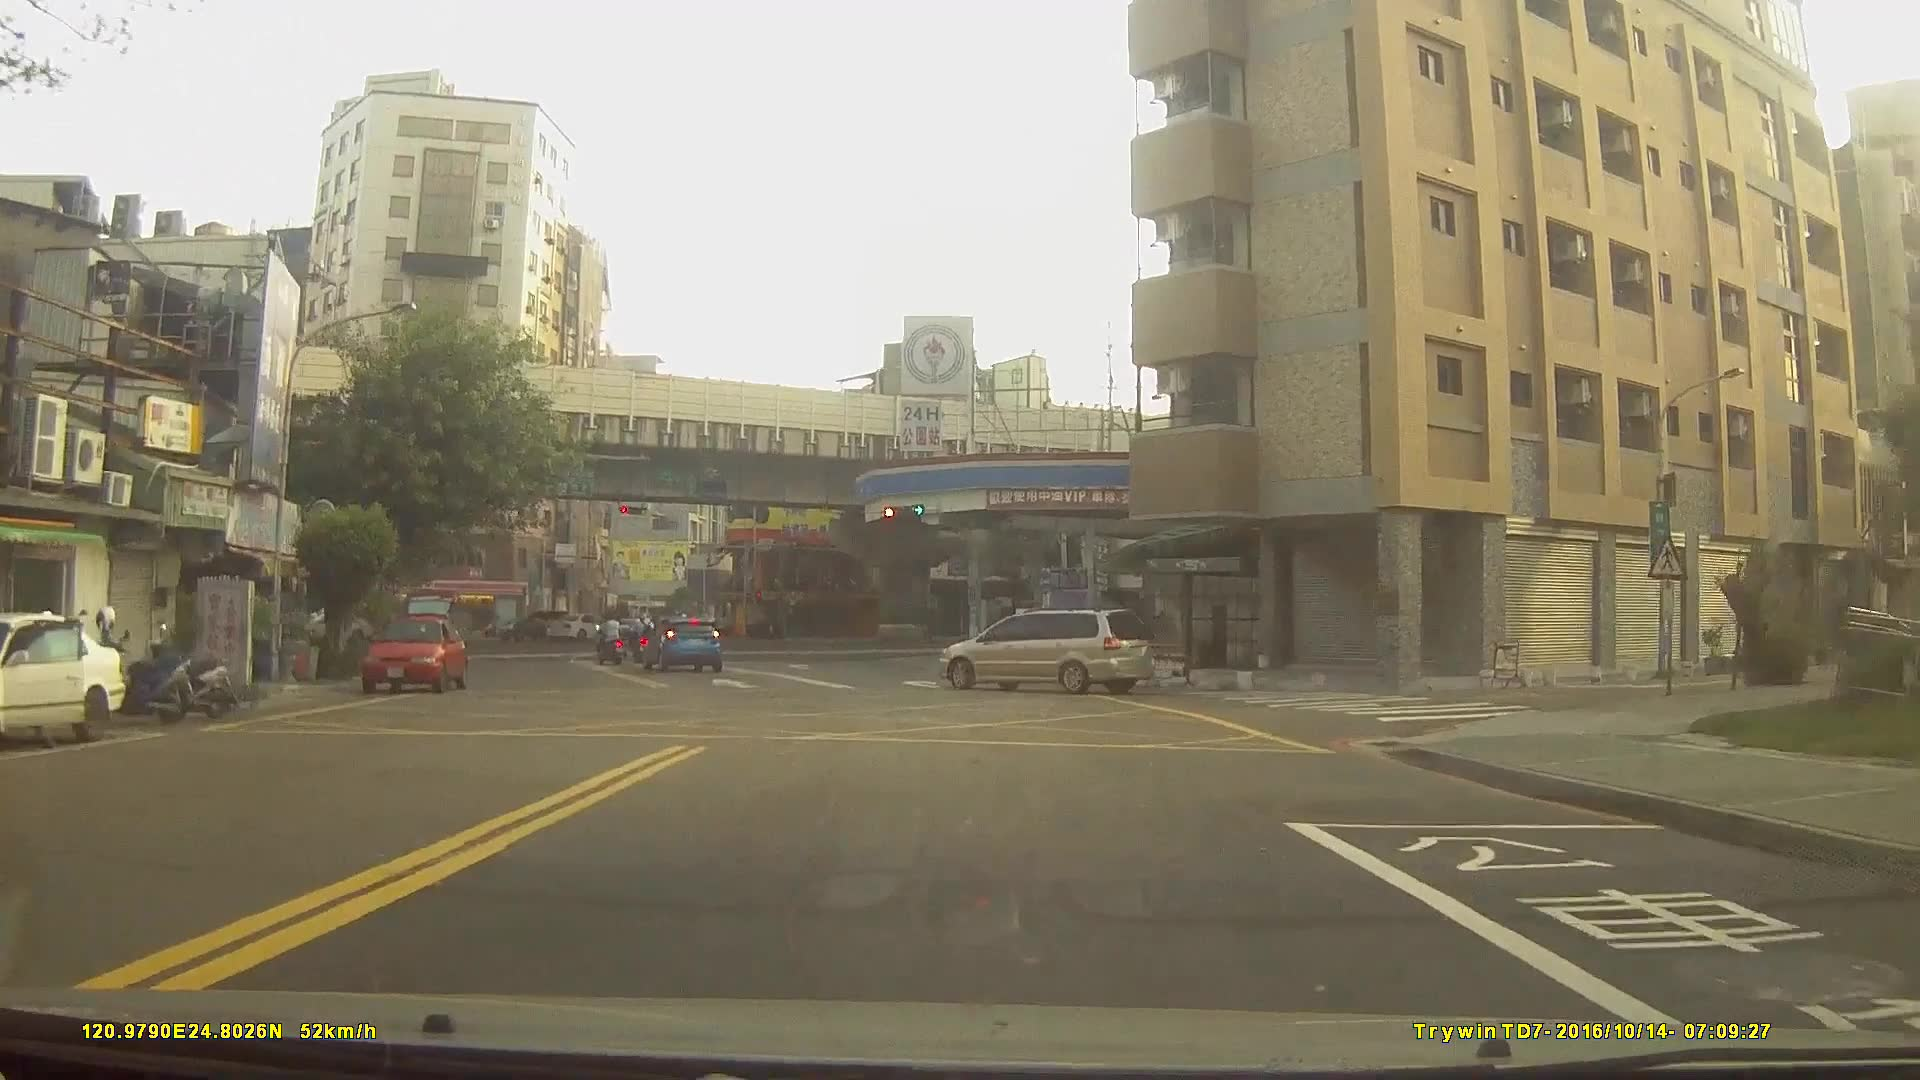rider: (595, 615, 626, 666)
vehicle: (937, 607, 1155, 692), (0, 613, 125, 746), (360, 614, 470, 691), (636, 616, 721, 671), (492, 610, 570, 643), (543, 612, 617, 642)
